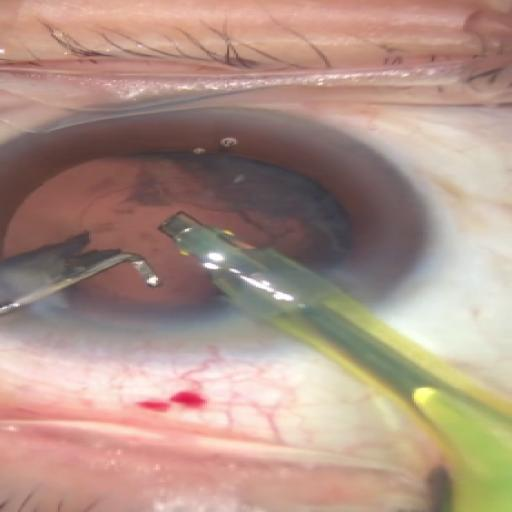cornea: (0, 105, 430, 351)
pupil: (0, 154, 358, 320)
